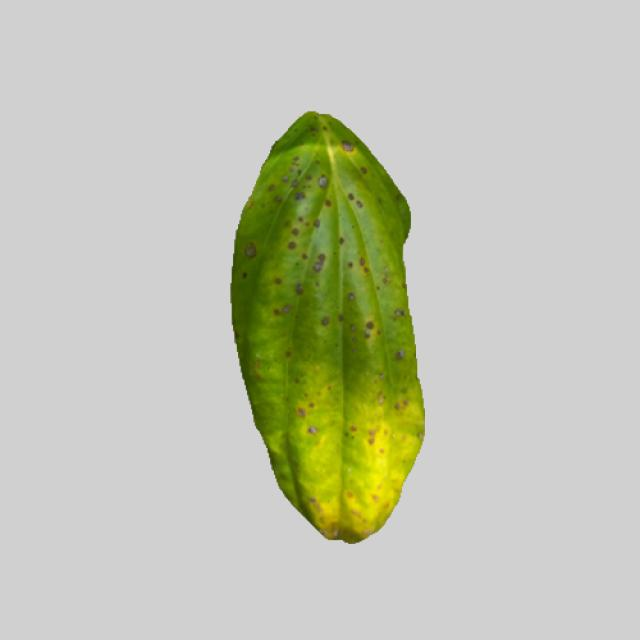yellow-mottle-virus: (213, 114, 432, 544)
